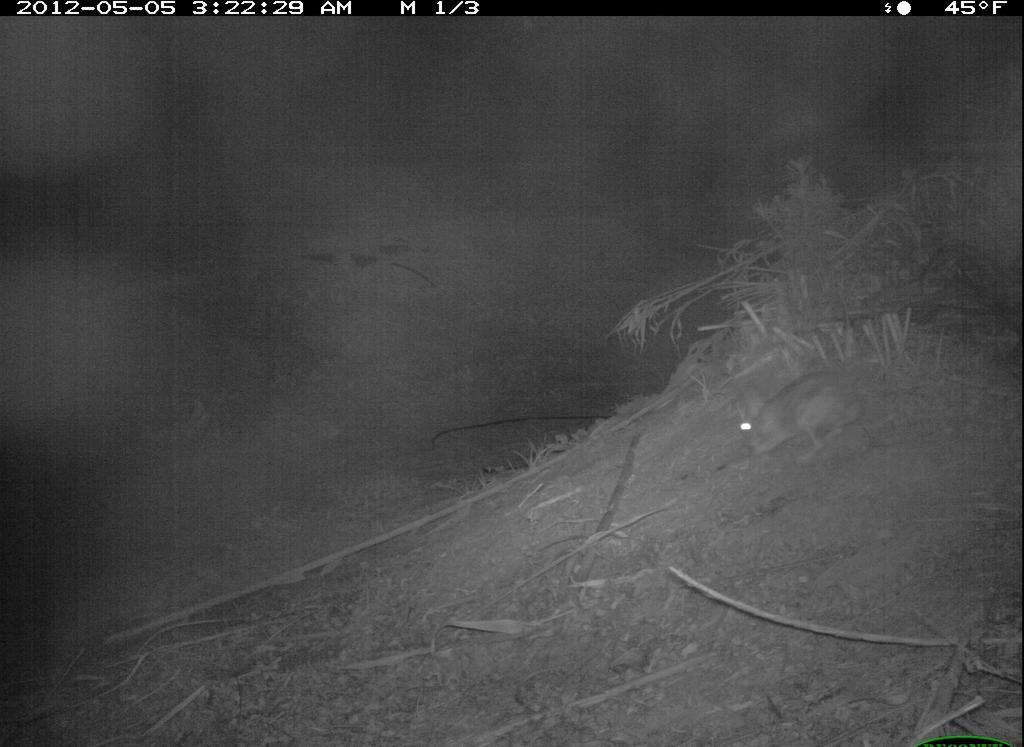rabbit: (716, 365, 897, 473)
